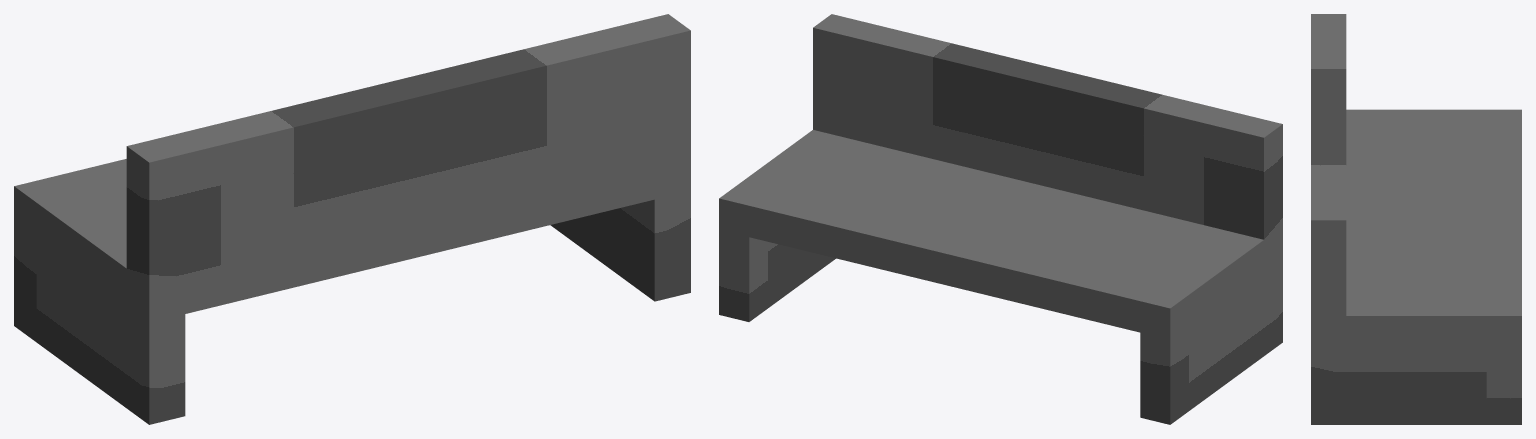
The model's file is obj_bench4.FBX.
3 views of the same model, side by side, from view 1: azimuth 30°, elevation 25°; view 2: azimuth 150°, elevation 25°; view 3: azimuth 270°, elevation 25° (orthographic). The views are drawn at different scales.
Visible parts, largest first — view 1: obj_bench4; view 2: obj_bench4; view 3: obj_bench4.
Boxes of the visible parts, <box> form: obj_bench4: <box>14,14,690,424</box>; obj_bench4: <box>719,14,1282,424</box>; obj_bench4: <box>1311,14,1521,424</box>.
Size of the model in its own units: 54.65 by 25.29 by 23.62.
